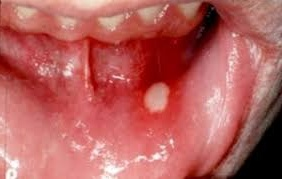Ulcer: (141, 80, 175, 113)
